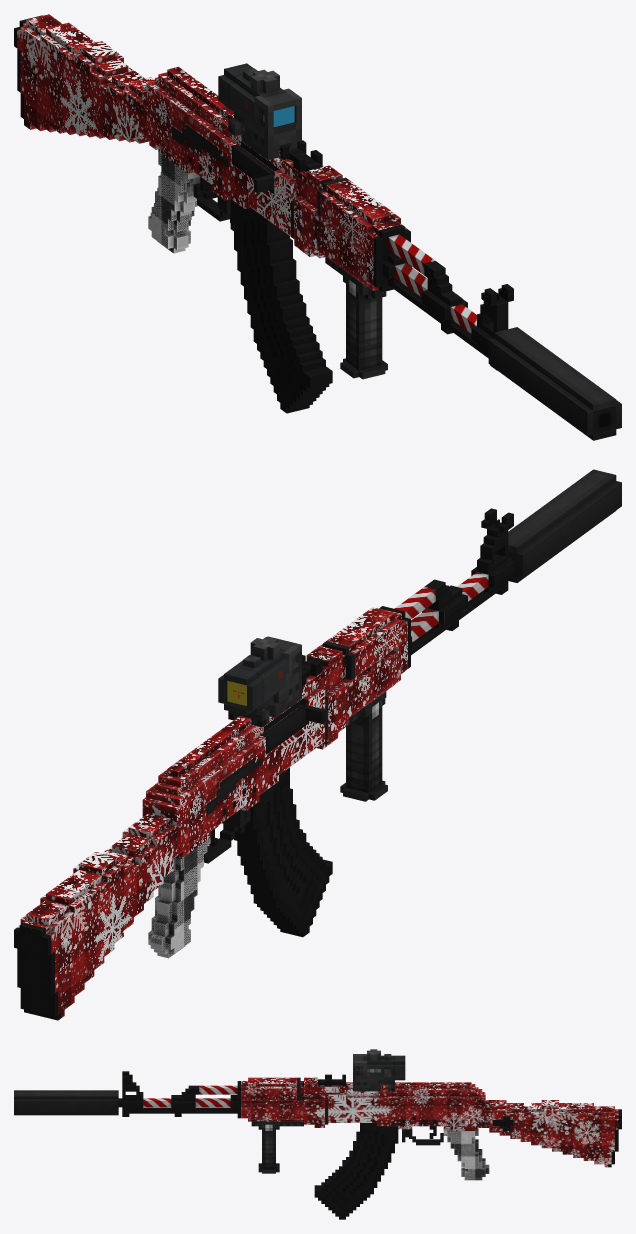
3 renders of one model, top to bottom at view 1: azimuth 30°, elevation 25°; view 2: azimuth 150°, elevation 25°; view 3: azimuth 270°, elevation 25°, orthographic. The views are drawn at different scales.
Parts seen in each view (by area): view 1: AK47, AK47_CLIP, SILENCER_6X6, GRIP1, SCOPE_TASCO, SCOPE_HOLOSUN, SCOPE_AIMPOINT; view 2: AK47, AK47_CLIP, SILENCER_6X6, SCOPE_TASCO, GRIP1, SCOPE_HOLOSUN; view 3: AK47, AK47_CLIP, SILENCER_6X6, SCOPE_TASCO, GRIP1, SCOPE_HOLOSUN.
Boxes of the visible parts, <box> form: AK47: <box>14,14,513,370</box>; AK47_CLIP: <box>230,199,332,413</box>; SILENCER_6X6: <box>488,327,621,440</box>; GRIP1: <box>325,257,387,379</box>; SCOPE_TASCO: <box>218,63,301,140</box>; SCOPE_HOLOSUN: <box>241,88,301,159</box>; SCOPE_AIMPOINT: <box>261,94,296,152</box>; AK47: <box>14,508,513,1020</box>; AK47_CLIP: <box>234,767,332,937</box>; SILENCER_6X6: <box>508,469,621,582</box>; SCOPE_TASCO: <box>218,637,301,727</box>; GRIP1: <box>338,691,387,801</box>; SCOPE_HOLOSUN: <box>264,636,301,717</box>; AK47: <box>118,1071,621,1180</box>; AK47_CLIP: <box>314,1123,398,1219</box>; SILENCER_6X6: <box>14,1090,118,1115</box>; SCOPE_TASCO: <box>353,1049,405,1091</box>; GRIP1: <box>251,1121,303,1173</box>; SCOPE_HOLOSUN: <box>353,1054,380,1091</box>.
Size of the model in its own units: 0.0984 by 0.5118 by 1.71.
Materials: 9 (9 with a texture image).
